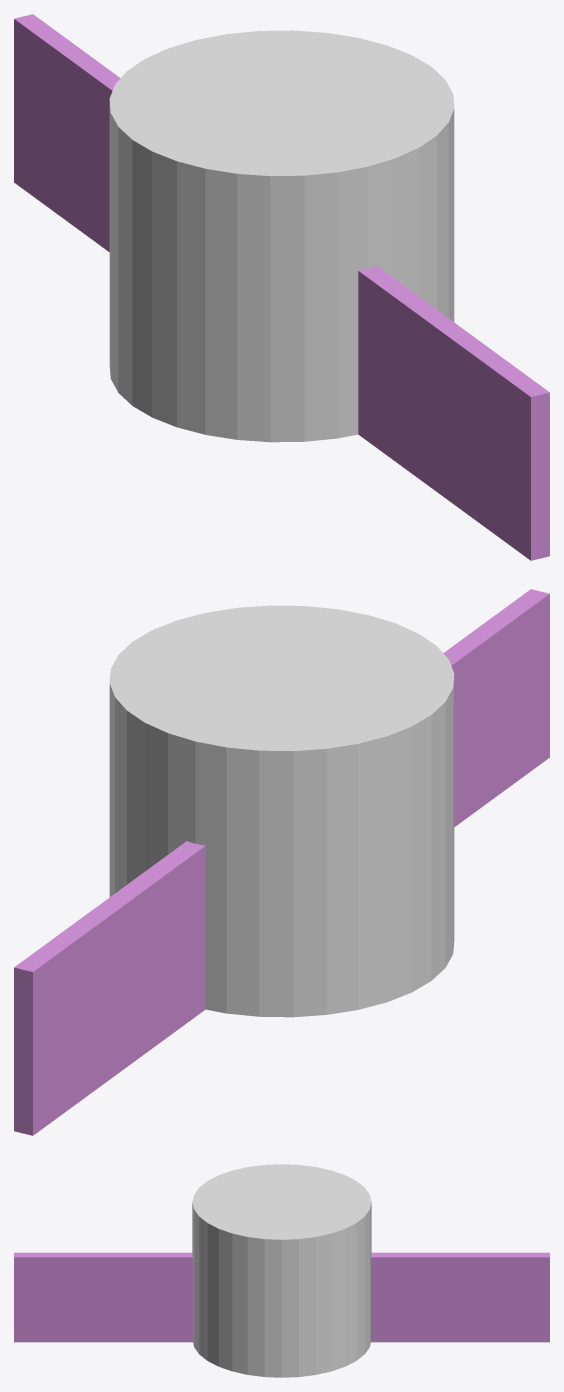
Rendered from HelperModel.fbx.
The picture shows the model from 3 angles, top to bottom: view 1: azimuth 30°, elevation 25°; view 2: azimuth 150°, elevation 25°; view 3: azimuth 270°, elevation 25°; orthographic projection. The views are drawn at different scales.
Visible parts, largest first — view 1: Cylinder; view 2: Cylinder; view 3: Cylinder.
Boxes of the visible parts, x1=… form: Cylinder: x1=14, y1=14, x2=549, y2=560; Cylinder: x1=14, y1=589, x2=549, y2=1135; Cylinder: x1=14, y1=1164, x2=549, y2=1377.
Bounding box in the file's own units: 2 × 1.7 × 5.99.
